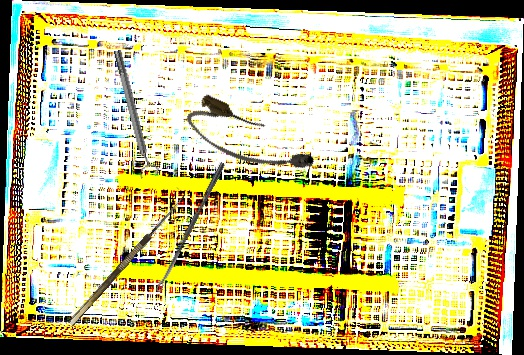Cannula: (179, 90, 321, 192)
Fixation Ring: (108, 47, 160, 180)
Hook Surgical: (61, 186, 189, 327)
Surgical Spoon: (154, 161, 226, 293)
